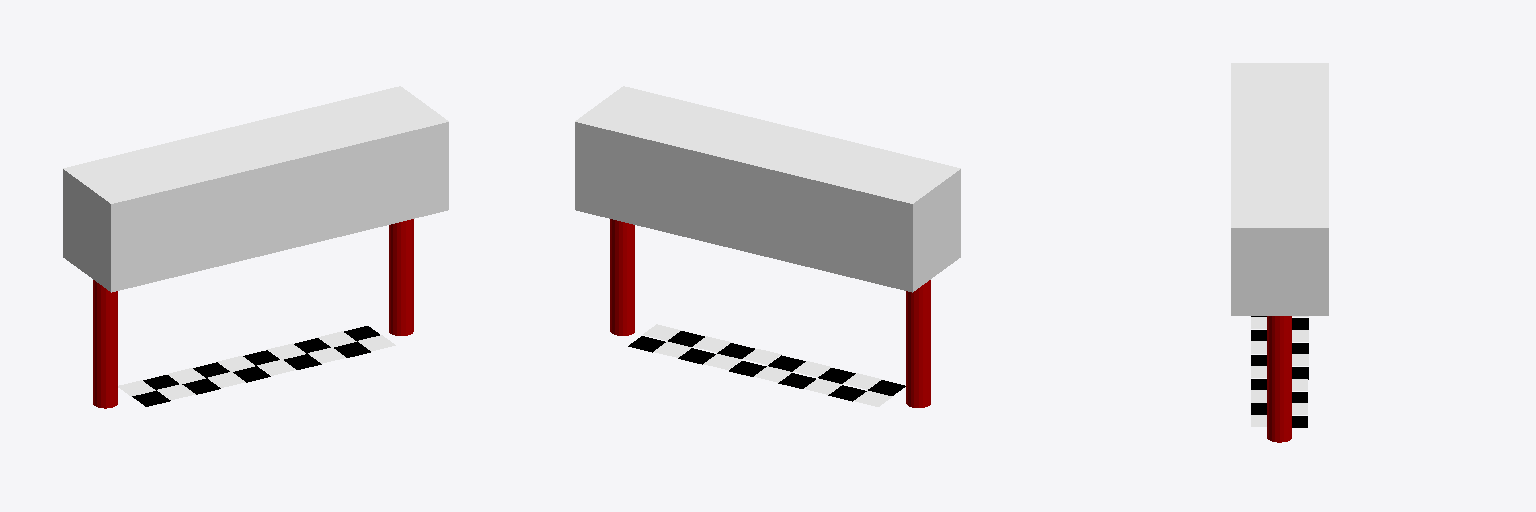
Rendered from ArcoF.obj.
The picture shows the model from 3 angles: view 1: azimuth 30°, elevation 25°; view 2: azimuth 150°, elevation 25°; view 3: azimuth 270°, elevation 25°; orthographic projection.
Parts seen in each view (by area): view 1: Box021, Cylinder002, Cylinder001; view 2: Box021, Cylinder002, Cylinder001; view 3: Box021, Cylinder001.
Part boxes in pixels (x1,y1,x2,y2): Box021: (63,86,448,292); Cylinder002: (93,280,117,408); Cylinder001: (389,219,413,335); Box021: (575,86,960,292); Cylinder002: (906,280,930,407); Cylinder001: (610,219,634,335); Box021: (1231,63,1328,315); Cylinder001: (1267,316,1291,442).
Size of the model in its own units: 80 by 50.15 by 20.